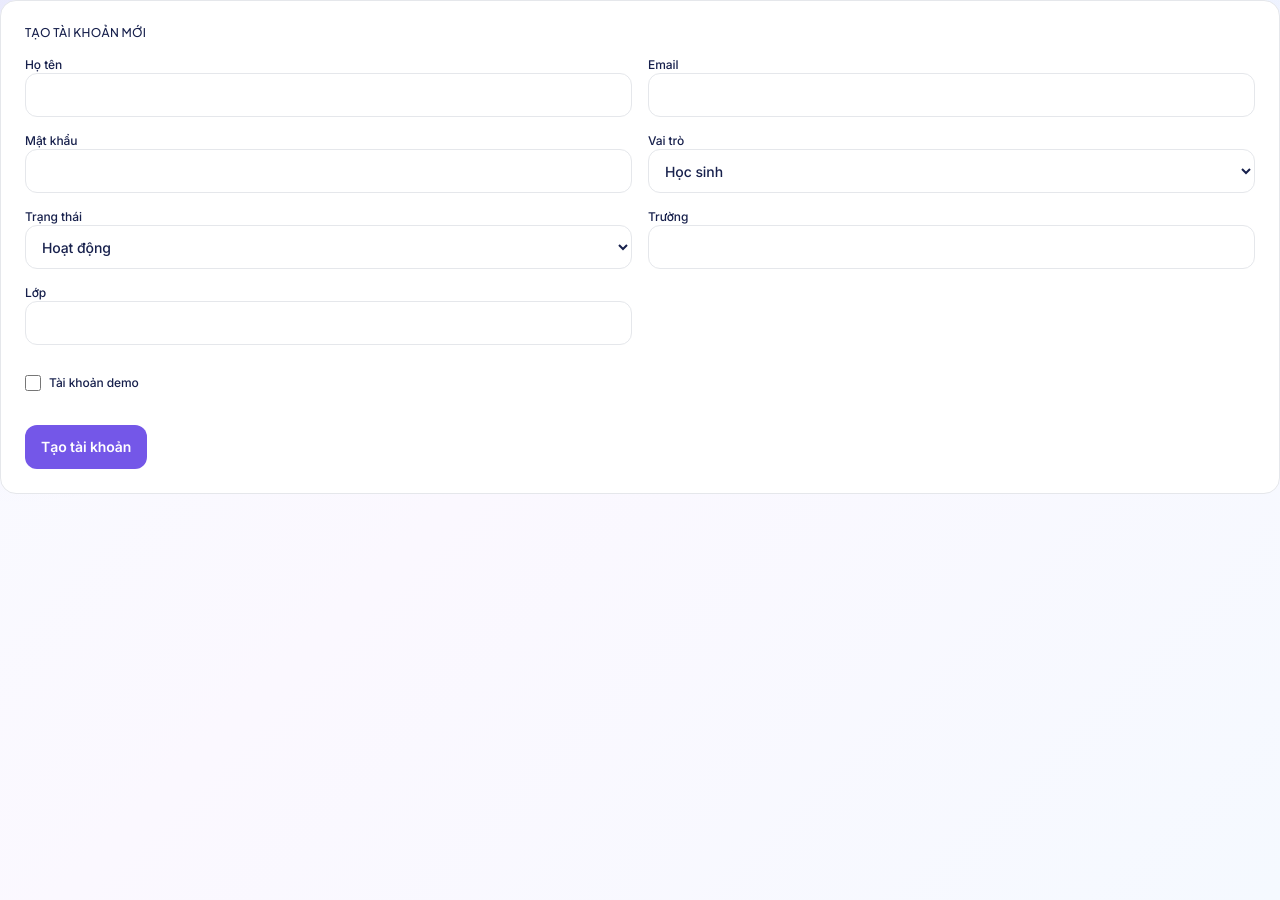
Test case: admin management UI › validates student creation requires school and class
In the field labelled "Họ tên": (328, 95) left=25, top=73, right=632, bottom=117, type "Học sinh mới"
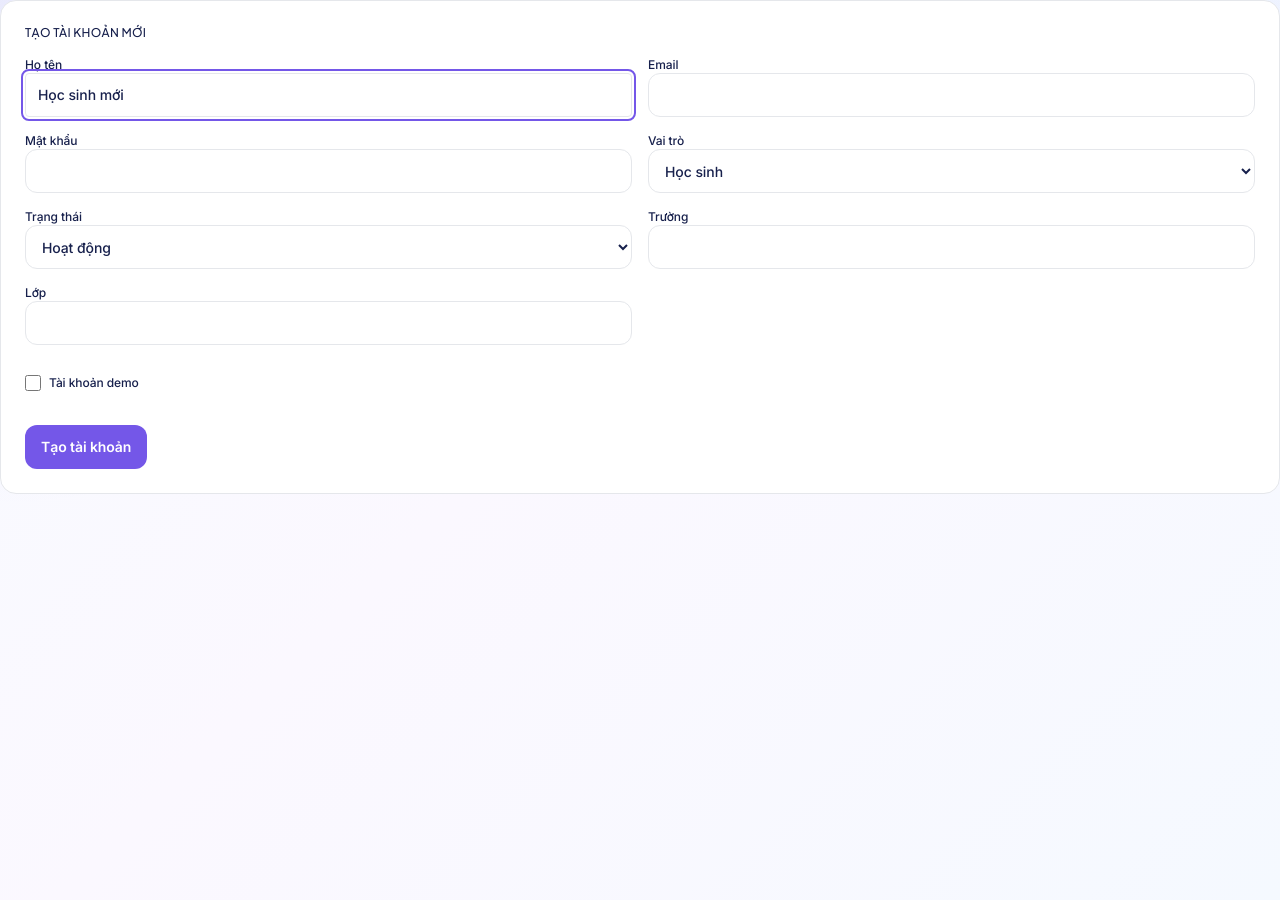
In the field labelled "Email": (952, 95) left=648, top=73, right=1255, bottom=117, type "new.student@example.test"
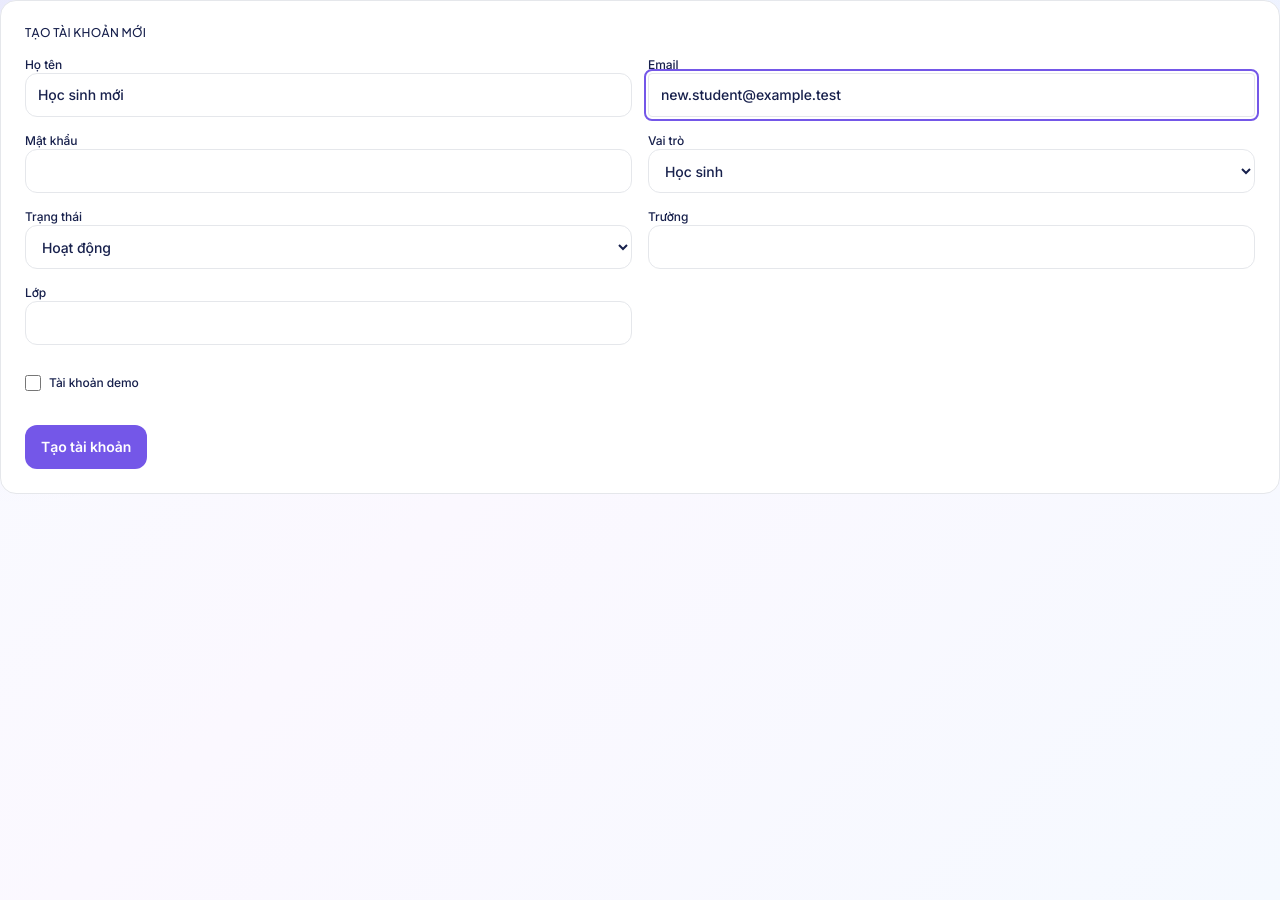
In the password field labelled "Mật khẩu": (328, 171) left=25, top=149, right=632, bottom=193, type "Secret123!"
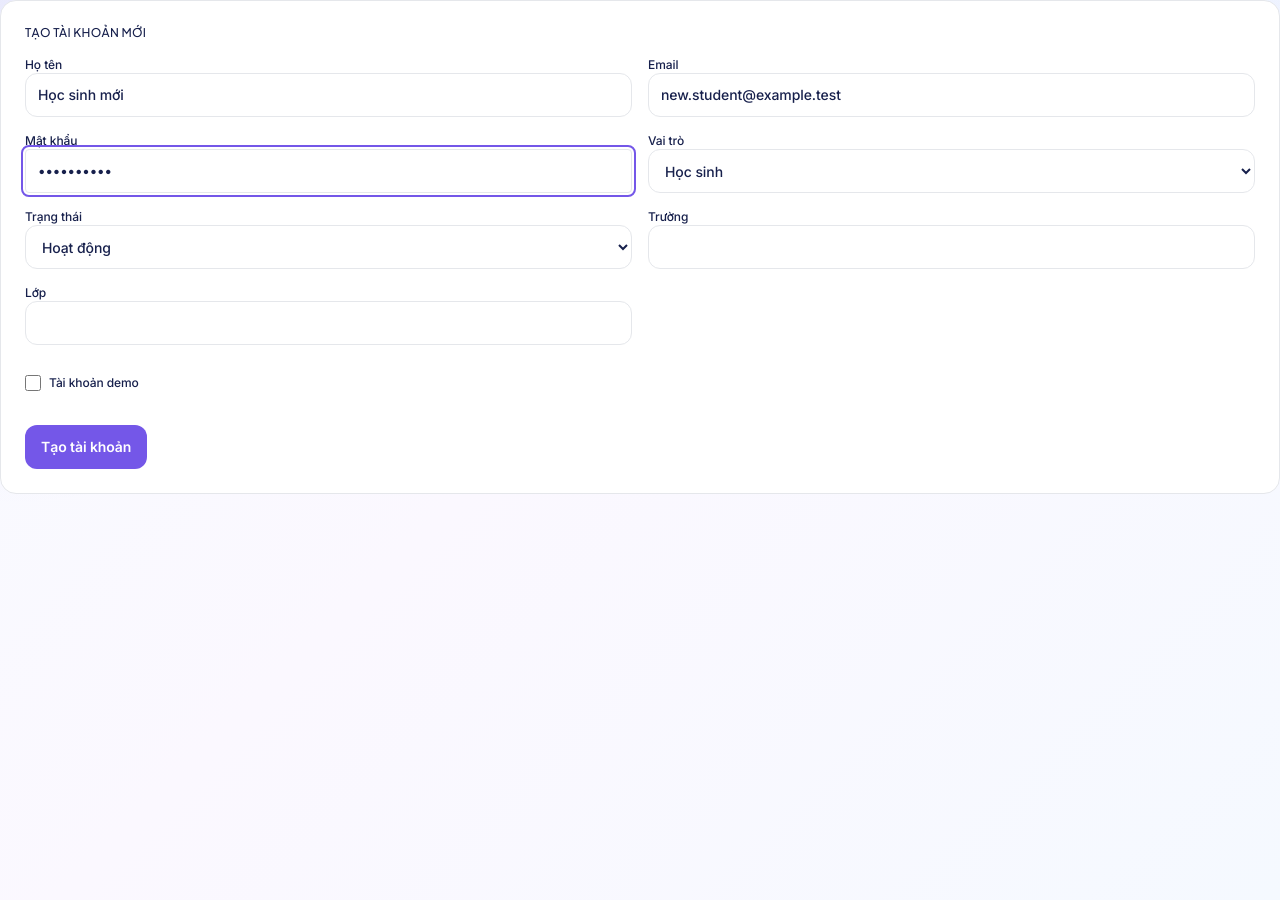
Click the button "Tạo tài khoản": (86, 447) left=25, top=425, right=147, bottom=469
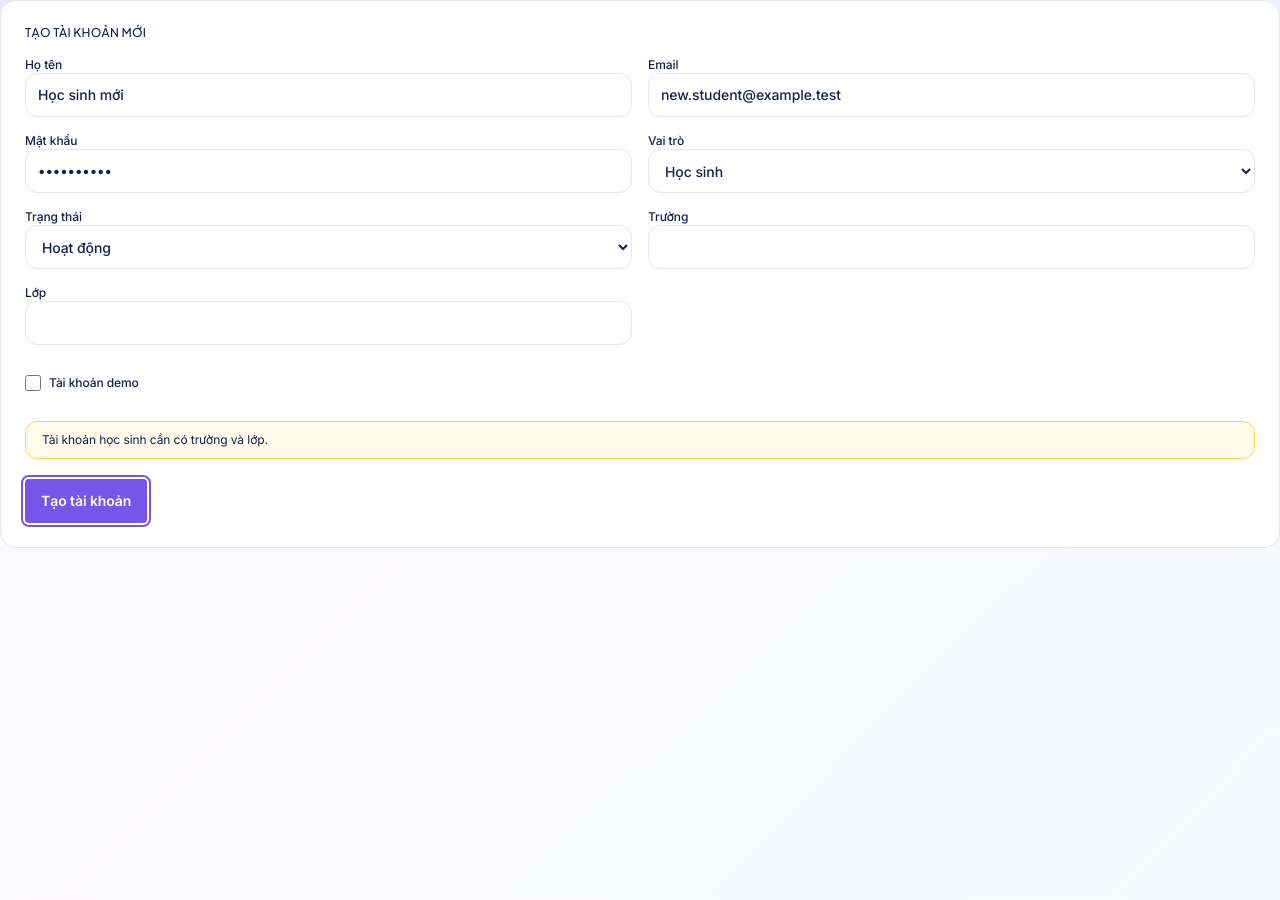
Now the text "Tài khoản học sinh cần có trường và lớp." is shown, box left=25, top=421, right=1255, bottom=459
